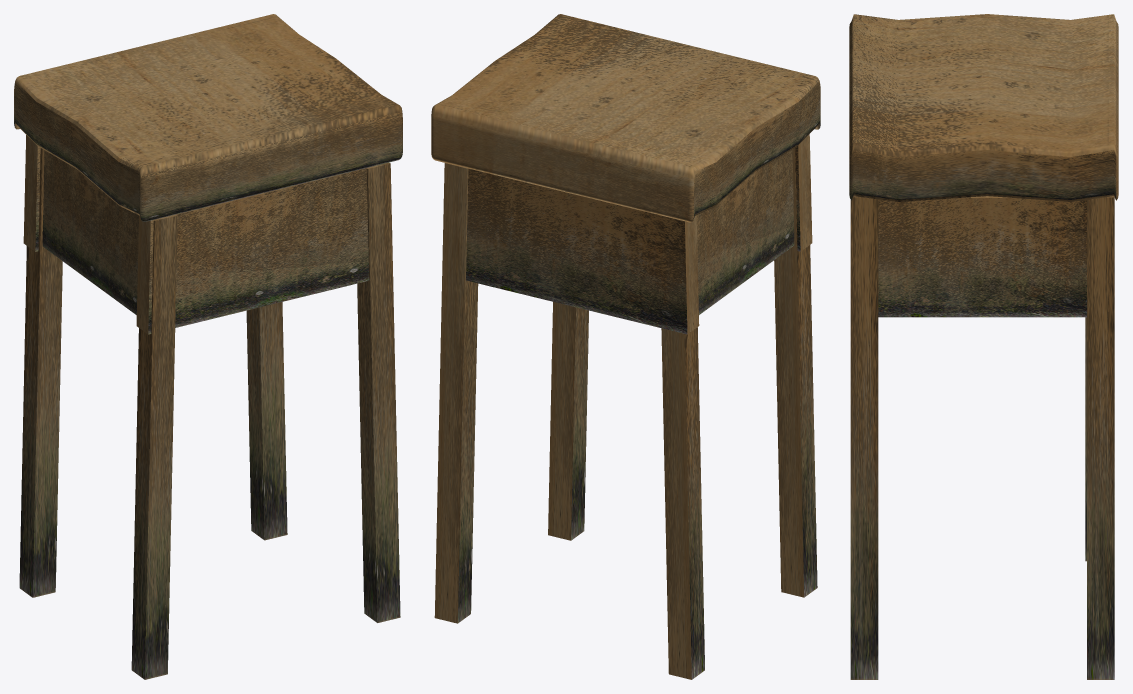
Rendered from TallChair.fbx.
3 renders of one model, left to right at view 1: azimuth 30°, elevation 25°; view 2: azimuth 150°, elevation 25°; view 3: azimuth 270°, elevation 25°, orthographic. The views are drawn at different scales.
Parts seen in each view (by area): view 1: TallChair; view 2: TallChair; view 3: TallChair.
Boxes of the visible parts, x1,y1,x2,y2 form: TallChair: (14,14,402,679); TallChair: (431,14,820,679); TallChair: (849,14,1118,679).
Bounding box in the file's own units: 21.1 × 38.78 × 17.69.
